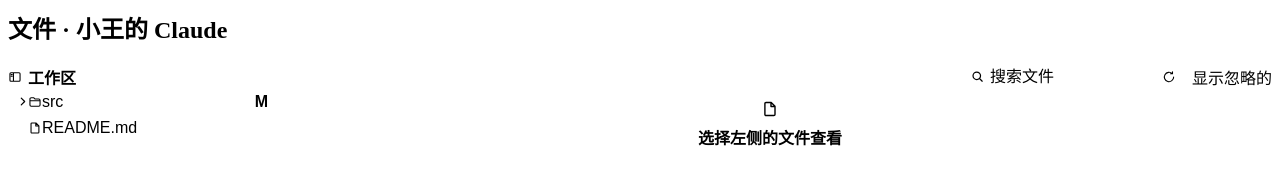
files tab › lists the root lazily, dirs first, with uncommitted marks; the ignored toggle refetches
The width and height of the screenshot is (1280, 177).
Expected: the list item "src M" is shown, [8,89,268,115]
Expected: the text titled "未提交" reads "M", [255,93,268,110]
Click the checkbox labelled "显示忽略的" at (1232, 78), box [1192,70,1272,87]
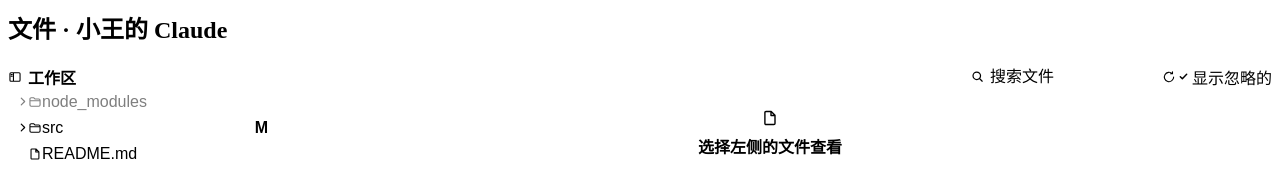
Now the list item "node_modules" is shown, box [8,89,268,115]
